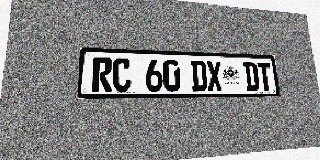0: (163, 59, 180, 91)
6: (145, 59, 163, 91)
C: (112, 58, 131, 92)
D: (190, 60, 208, 91), (243, 62, 260, 91)
R: (92, 57, 112, 92)
T: (257, 62, 273, 91)
X: (206, 61, 223, 91)
